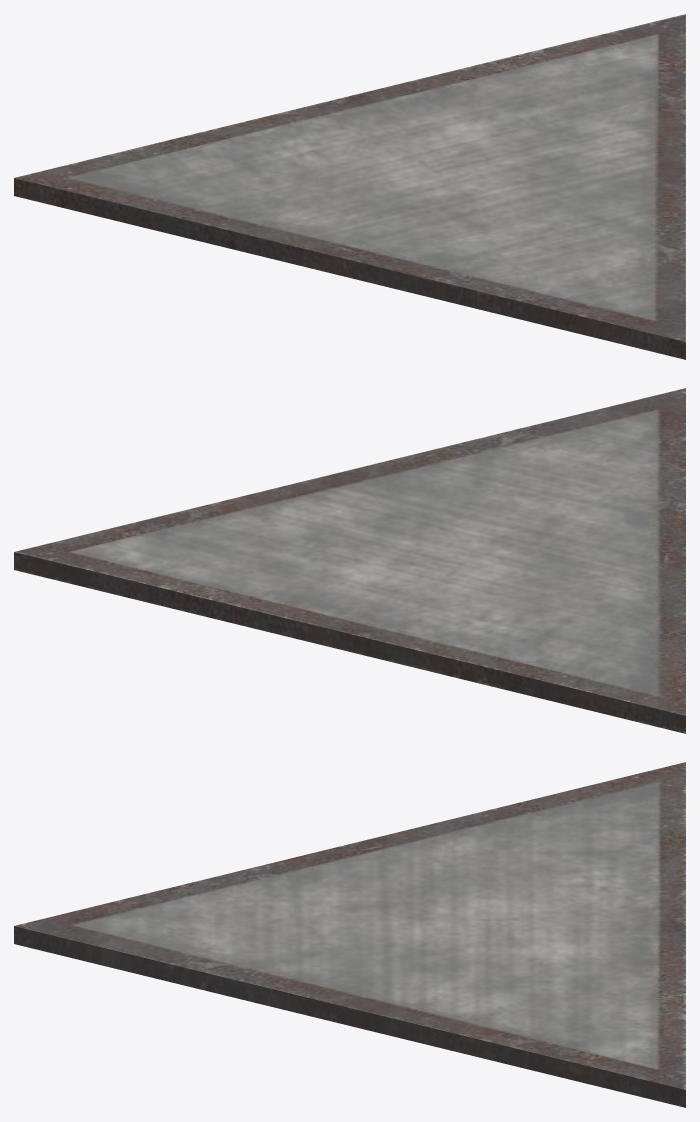
Rendered from armored_floor_triangle_textured.glb.
3 renders of one model, top to bottom at view 1: azimuth 30°, elevation 25°; view 2: azimuth 150°, elevation 25°; view 3: azimuth 270°, elevation 25°, orthographic.
Parts seen in each view (by area): view 1: Circle; view 2: Circle; view 3: Circle.
Boxes of the visible parts, x1,y1,x2,y2 form: Circle: (14,14,685,359); Circle: (14,388,685,733); Circle: (14,762,685,1107).
Size of the model in its own units: 2 by 0.0512 by 1.73.
1 material, 1 textured.
